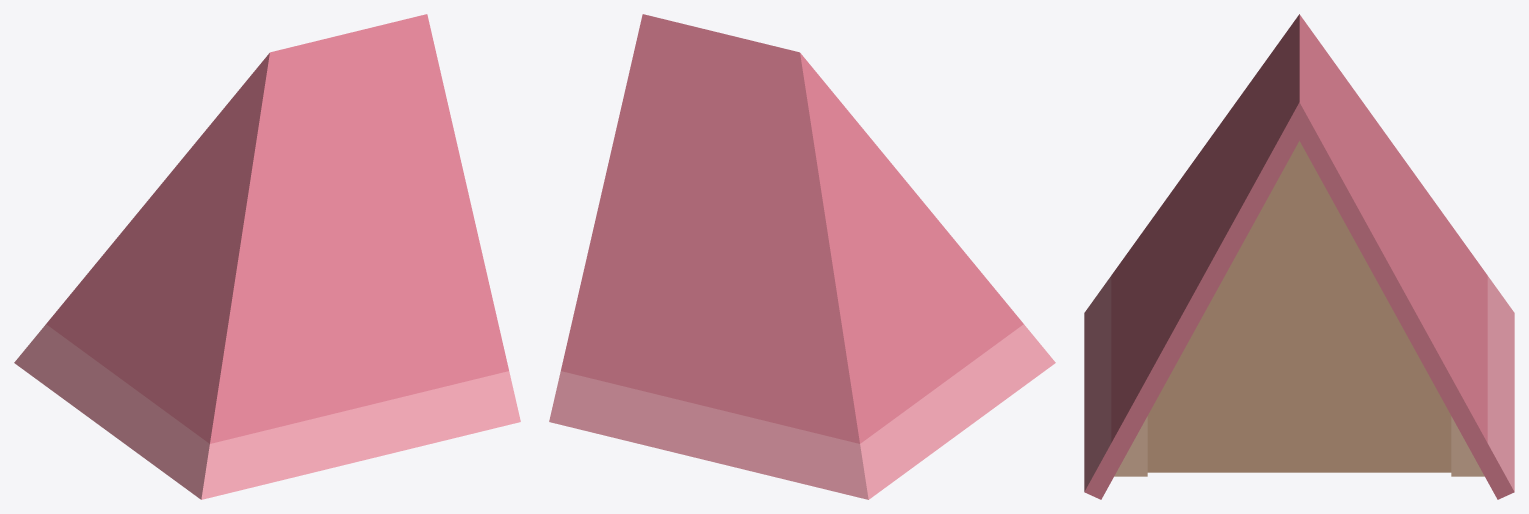
3 views of the same model, side by side, from view 1: azimuth 30°, elevation 25°; view 2: azimuth 150°, elevation 25°; view 3: azimuth 270°, elevation 25° (orthographic). The views are drawn at different scales.
Parts seen in each view (by area): view 1: roofHighGableEnd; view 2: roofHighGableEnd; view 3: roofHighGableEnd.
Boxes of the visible parts, bbox=[...] form: roofHighGableEnd: bbox=[14, 14, 520, 499]; roofHighGableEnd: bbox=[549, 14, 1055, 499]; roofHighGableEnd: bbox=[1084, 14, 1514, 499].
Size of the model in its own units: 1.12 by 1.16 by 1.13.
